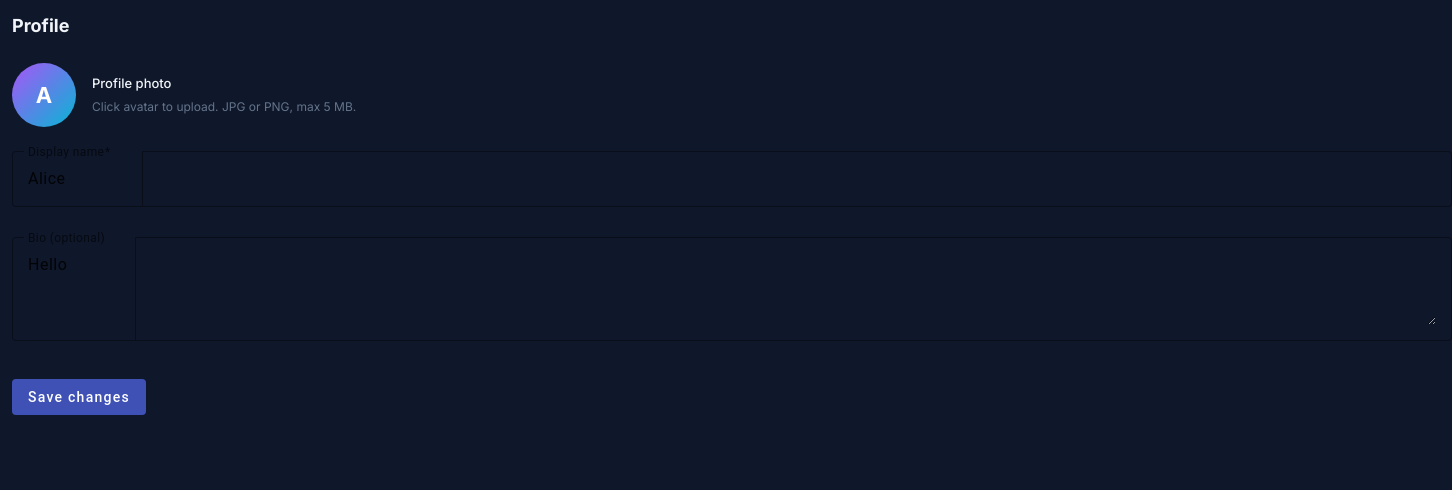
Test case: ProfileTabComponent › shows error message when updateProfile fails
The width and height of the screenshot is (1452, 490).
Click the button with test id "save-btn" at (79, 397), box x1=12 y1=379 x2=146 y2=415
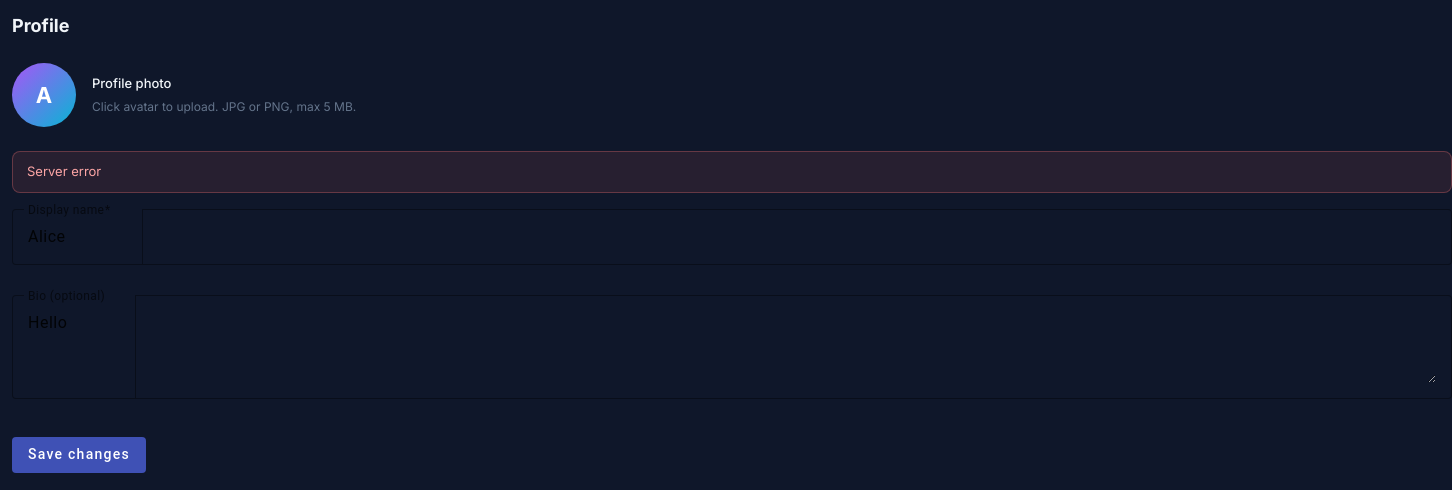
Expected: the text "Server error" is shown, x1=12 y1=151 x2=1451 y2=192
